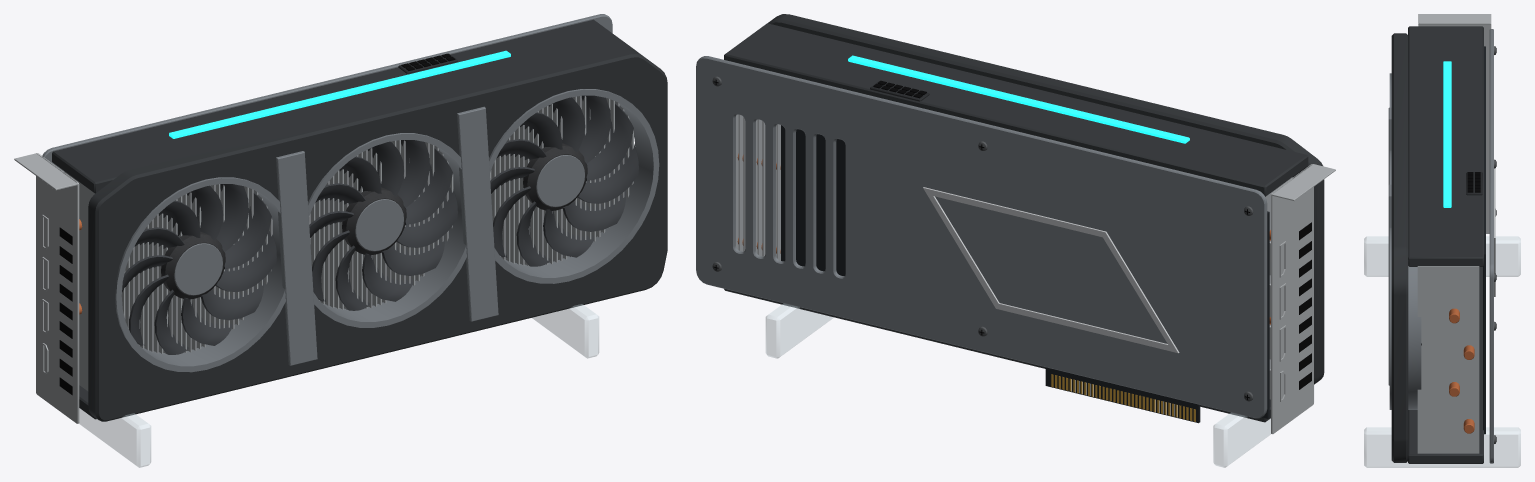
File: graphics-card.glb
3 renders of one model, left to right at view 1: azimuth 30°, elevation 25°; view 2: azimuth 150°, elevation 25°; view 3: azimuth 270°, elevation 25°, orthographic. The views are drawn at different scales.
Visible parts, largest first — view 1: Graphics_Card, Fan_1, Fan_2, Fan_3; view 2: Graphics_Card; view 3: Graphics_Card.
Part boxes in pixels (left/top/right/bottom): Graphics_Card: left=14, top=14, right=667, bottom=467; Fan_1: left=122, top=184, right=276, bottom=354; Fan_2: left=309, top=140, right=457, bottom=310; Fan_3: left=490, top=95, right=638, bottom=266; Graphics_Card: left=696, top=14, right=1335, bottom=467; Graphics_Card: left=1364, top=14, right=1520, bottom=467.
Size of the model in its own units: 0.327 by 0.1467 by 0.085.
15 materials, 1 textured.
